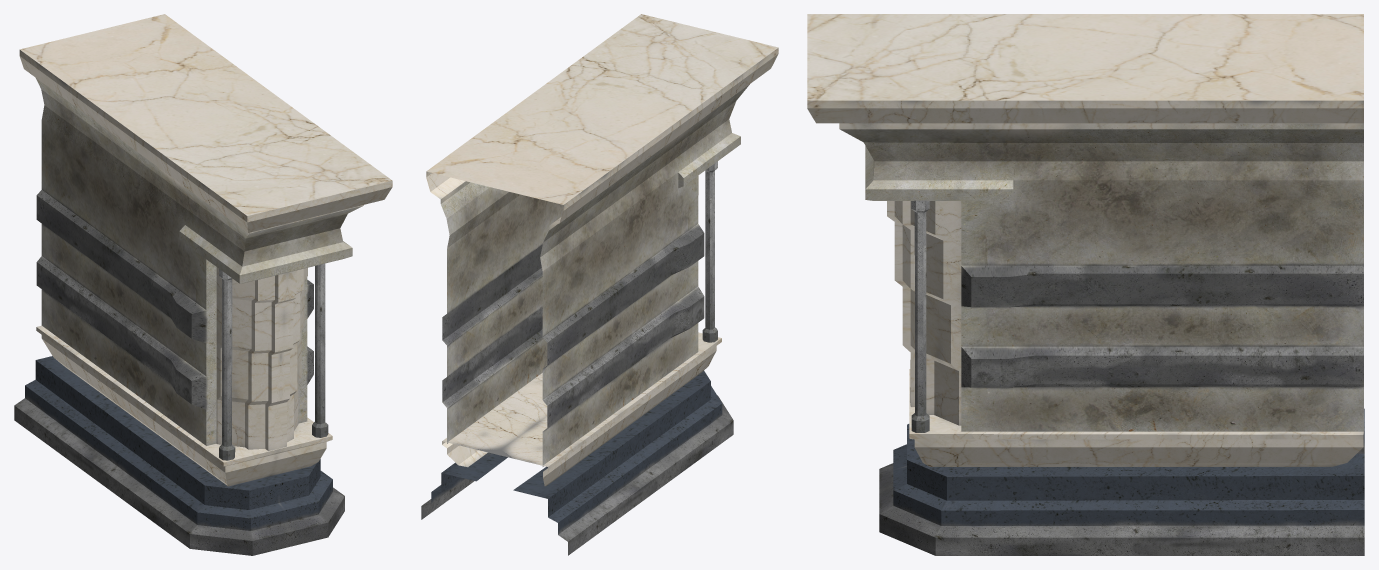
The model's file is Wall_Divider.fbx.
The picture shows the model from 3 angles, left to right: view 1: azimuth 30°, elevation 25°; view 2: azimuth 150°, elevation 25°; view 3: azimuth 270°, elevation 25°; orthographic projection. The views are drawn at different scales.
Parts seen in each view (by area): view 1: Wall_Divider_Main; view 2: Wall_Divider_Main; view 3: Wall_Divider_Main.
Part boxes in pixels (x1=…): Wall_Divider_Main: x1=14, y1=14, x2=392, y2=555; Wall_Divider_Main: x1=421, y1=14, x2=778, y2=555; Wall_Divider_Main: x1=807, y1=14, x2=1364, y2=555.
Size of the model in its own units: 101 by 229 by 256.
1 material, 1 textured.
